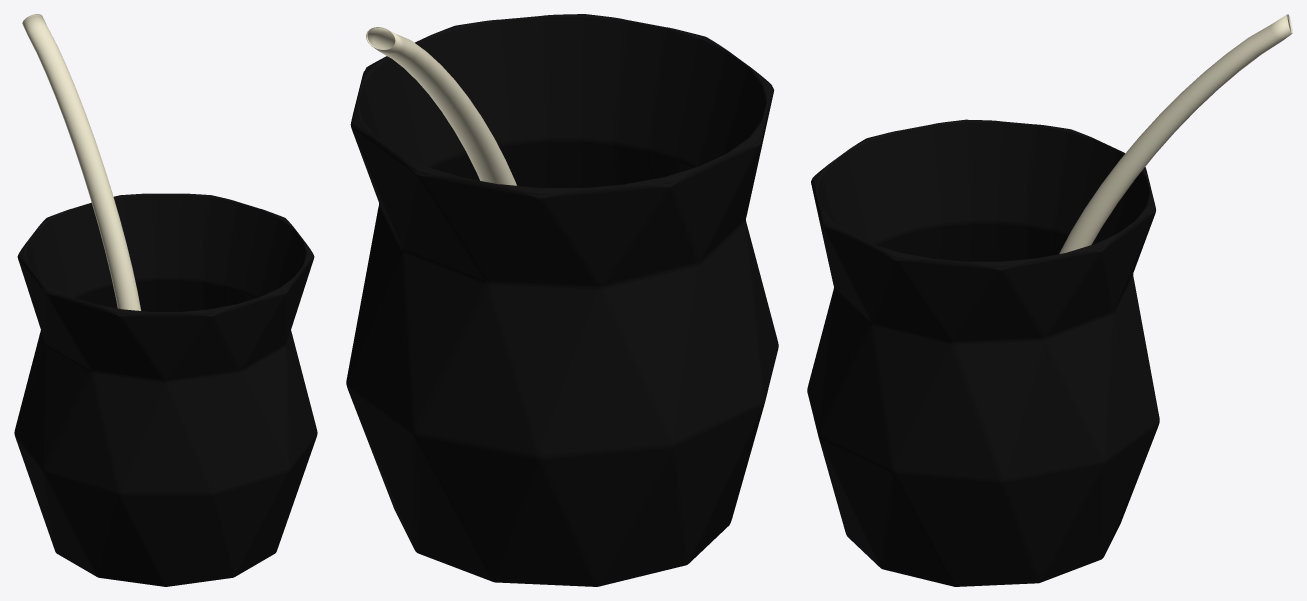
File: Mate.fbx
The picture shows the model from 3 angles, left to right: view 1: azimuth 30°, elevation 25°; view 2: azimuth 150°, elevation 25°; view 3: azimuth 270°, elevation 25°; orthographic projection. The views are drawn at different scales.
Visible parts, largest first — view 1: Mate, Bombilla; view 2: Mate, Bombilla; view 3: Mate, Bombilla.
Boxes of the visible parts, x1=… form: Mate: x1=14, y1=193, x2=317, y2=586; Bombilla: x1=22, y1=14, x2=141, y2=310; Mate: x1=346, y1=14, x2=778, y2=586; Bombilla: x1=366, y1=27, x2=516, y2=185; Mate: x1=807, y1=119, x2=1159, y2=586; Bombilla: x1=1059, y1=14, x2=1292, y2=253.
Size of the model in its own units: 259 by 409 by 351.
